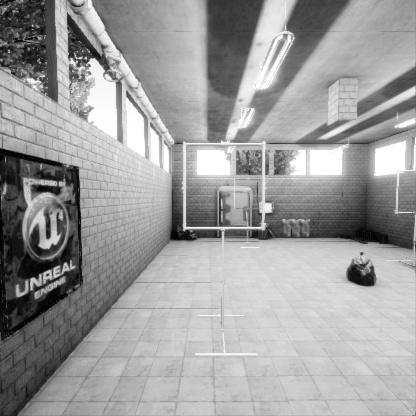gate: (184, 190, 270, 275), (234, 208, 264, 238), (400, 204, 416, 248)
